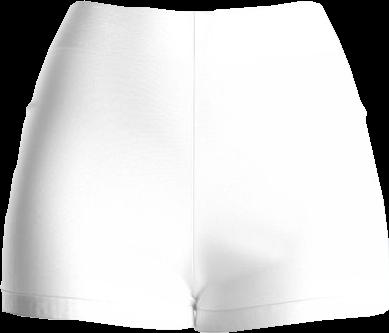Hemline: (195, 308, 388, 332), (1, 308, 193, 331)
Pantleg: (193, 1, 388, 331), (2, 1, 194, 329)
Waistline: (72, 0, 310, 14)
